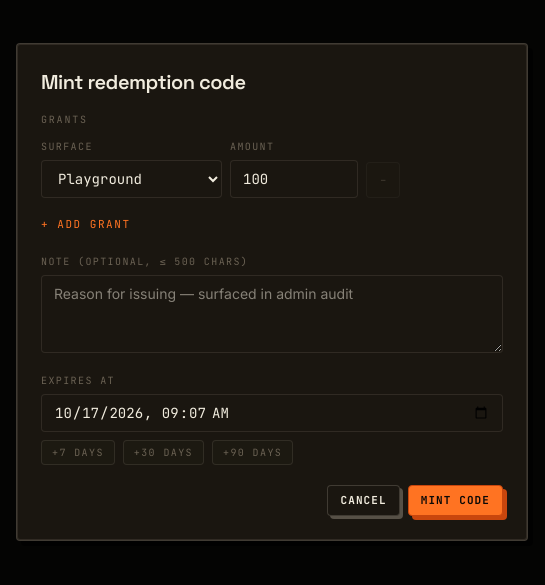
Test: MintRedemptionCodeModal › blocks submission when expiresAt is in the past
Replace the text in the field labelled "Expires at" with "2000-01-01T00:00" at (272, 413), box [41,394,503,432]
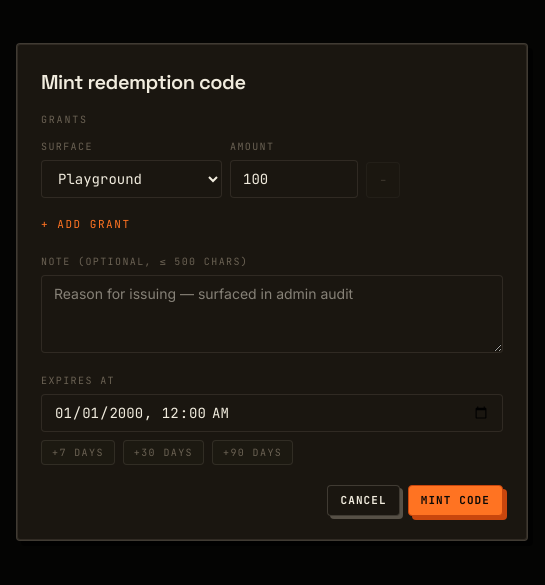
Click the button "Mint code" at (455, 501), box [408,485,503,516]
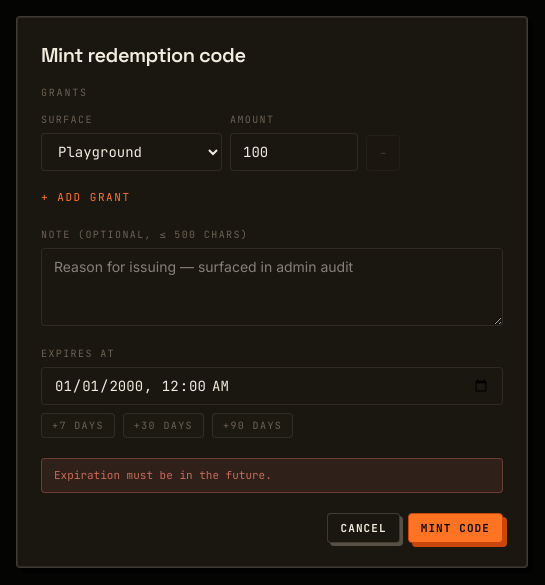
Expected: the message shows "Expiration must be in the future", [54,468,272,482]
